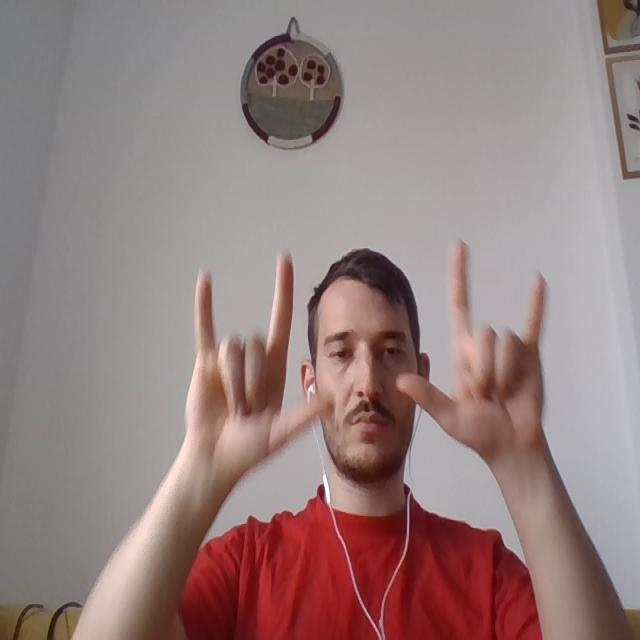i love you: (401, 241, 558, 465), (189, 272, 330, 470)
